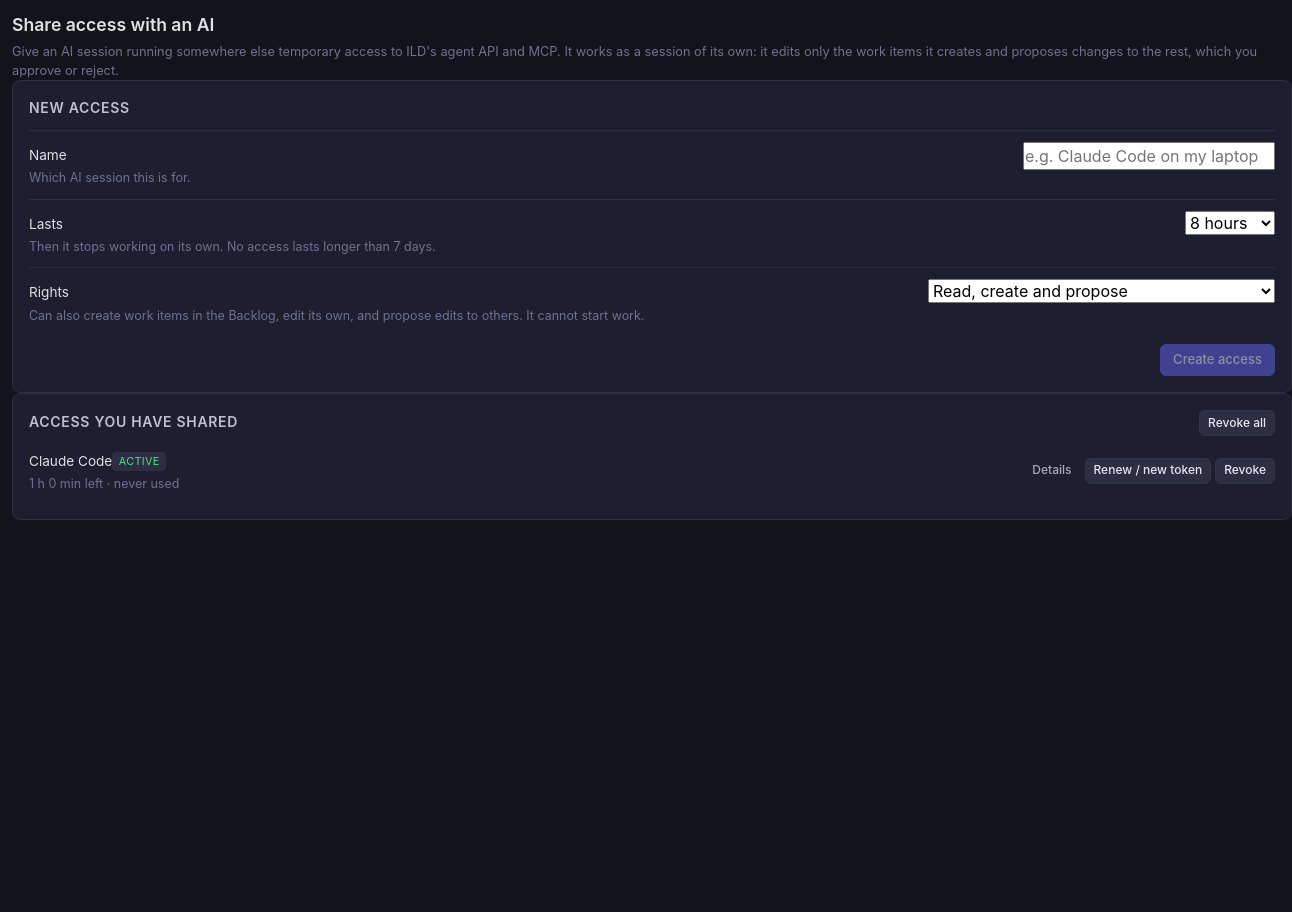
Test: Share access with an AI › shows a grant's pending proposals, linked to where they are decided, and its activity
Expected: the text "Claude Code" is shown, [29,453,112,469]
Click the button "Details".
click(1052, 471)  # box [1023,458,1080,484]
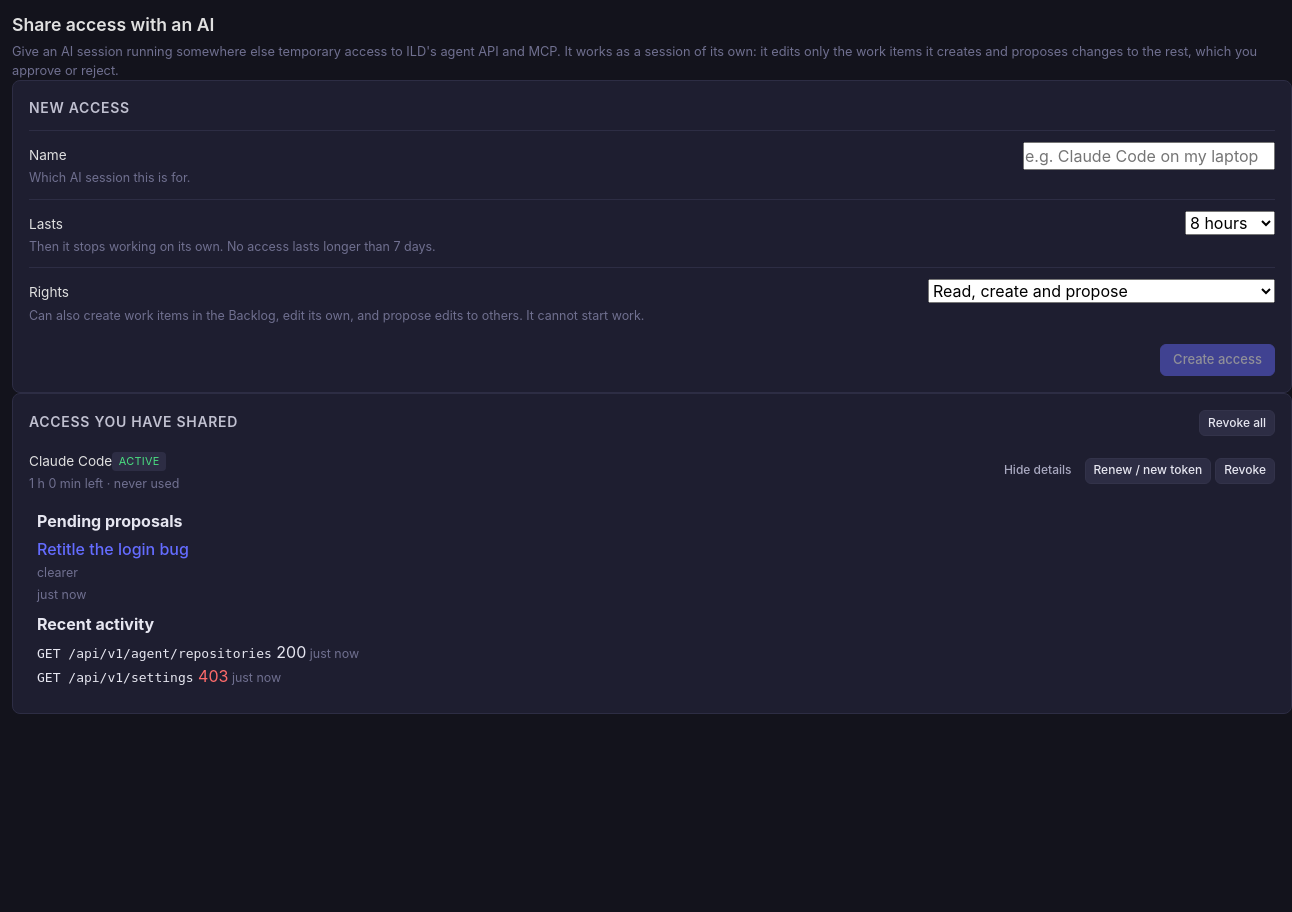
Expected: the text "403" is shown, [198,666,228,686]
